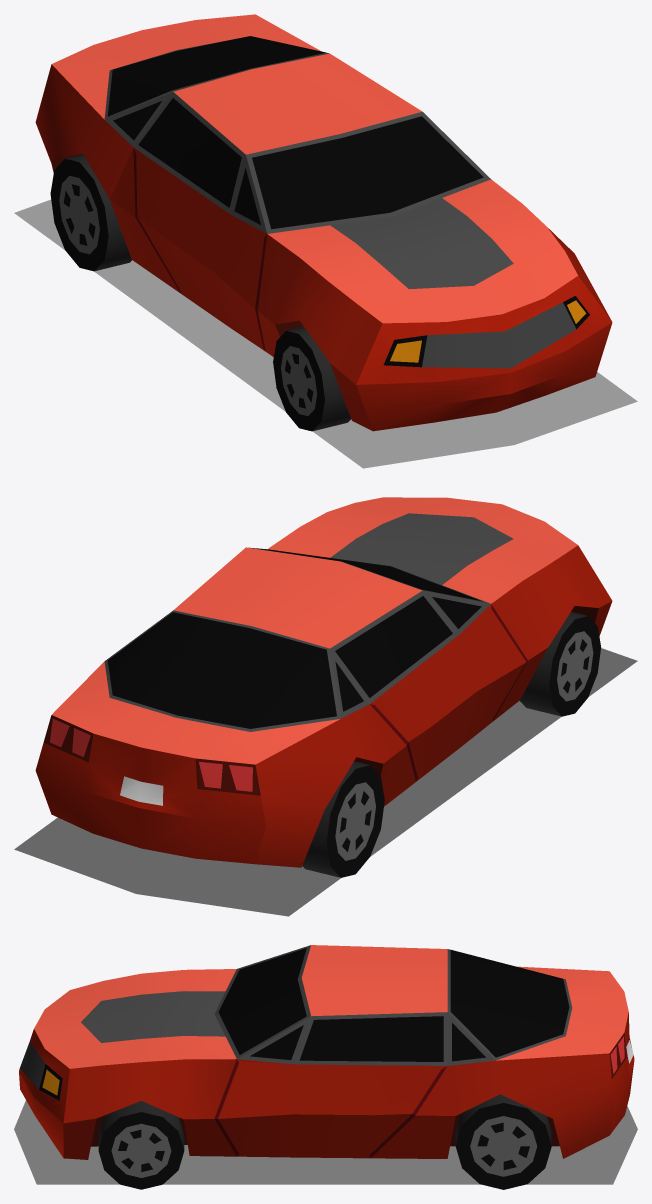
File: Car_1.fbx
3 views of the same model, one above another, from view 1: azimuth 30°, elevation 25°; view 2: azimuth 150°, elevation 25°; view 3: azimuth 270°, elevation 25° (orthographic). The views are drawn at different scales.
Parts seen in each view (by area): view 1: Body, Shadow, Wheel_Rear_Right, Wheel_Front_Right; view 2: Body, Shadow, Wheel_Rear_Right, Wheel_Front_Right; view 3: Body, Shadow, Wheel_Rear_Left, Wheel_Front_Left.
Part boxes in pixels (x1,y1,x2,y2): Body: (35, 14, 612, 431); Shadow: (14, 199, 637, 468); Wheel_Rear_Right: (50, 154, 131, 271); Wheel_Front_Right: (273, 326, 350, 431); Body: (35, 497, 612, 867); Shadow: (14, 648, 637, 916); Wheel_Rear_Right: (302, 761, 384, 877); Wheel_Front_Right: (519, 612, 601, 716); Body: (19, 945, 634, 1159); Shadow: (14, 1100, 637, 1184); Wheel_Rear_Left: (455, 1094, 551, 1189); Wheel_Front_Left: (98, 1101, 184, 1189).
Size of the model in its own units: 2.07 by 1.36 by 4.9.
